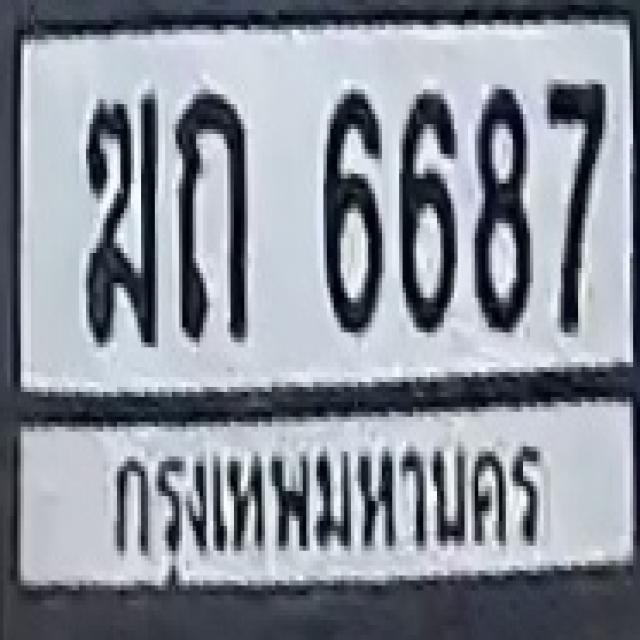-: (83, 92, 158, 345), (174, 90, 249, 342)
6: (322, 87, 384, 335), (397, 92, 456, 330)
7: (544, 80, 606, 332)
8: (471, 85, 530, 328)
BKK: (102, 423, 560, 586)
